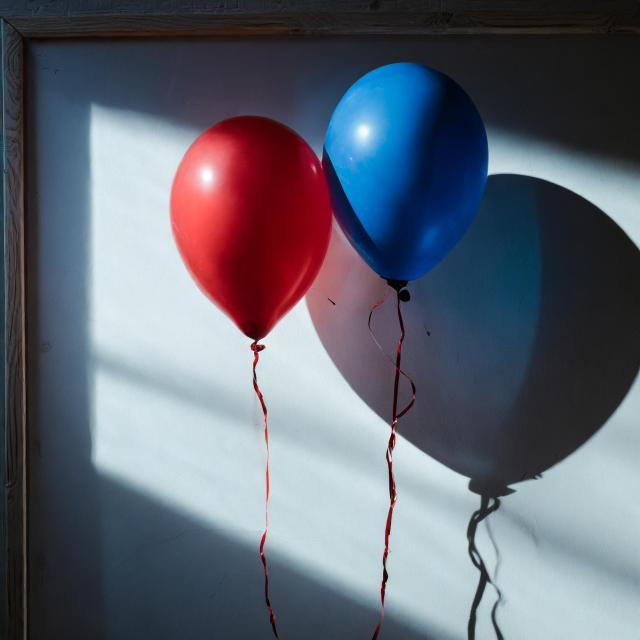blue: (324, 61, 490, 309)
red: (170, 116, 336, 361)
